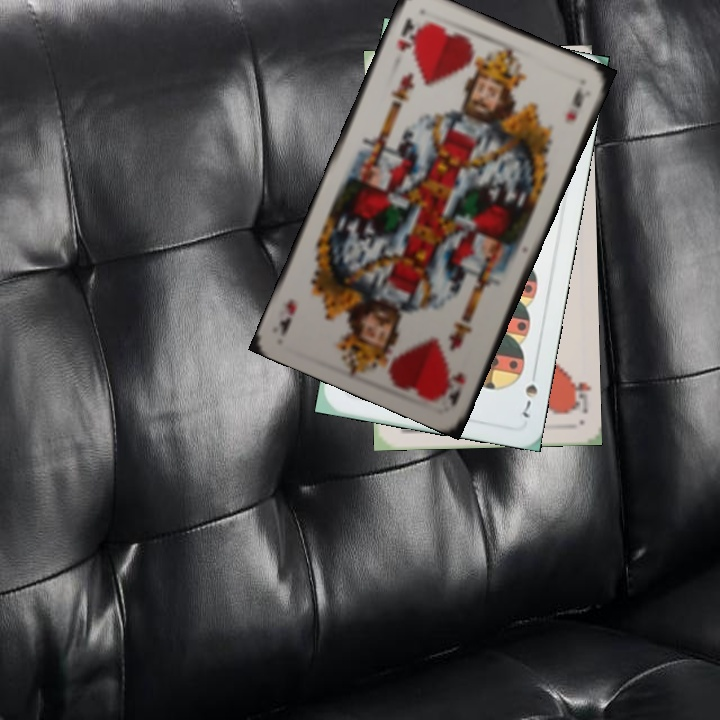HK: (393, 13, 427, 54), (439, 368, 468, 409)
HO: (565, 370, 592, 416)
S7: (517, 364, 540, 421)
